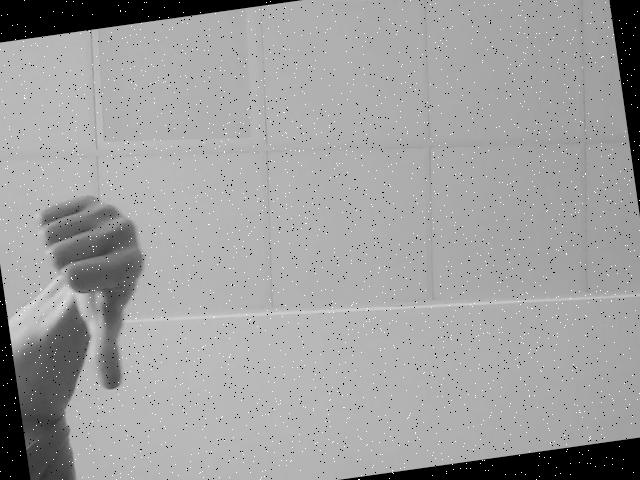bad: (34, 172, 194, 400)
